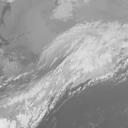cyclone: (43, 38, 100, 89)
